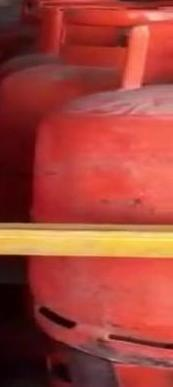cylinder: (0, 1, 173, 387)
